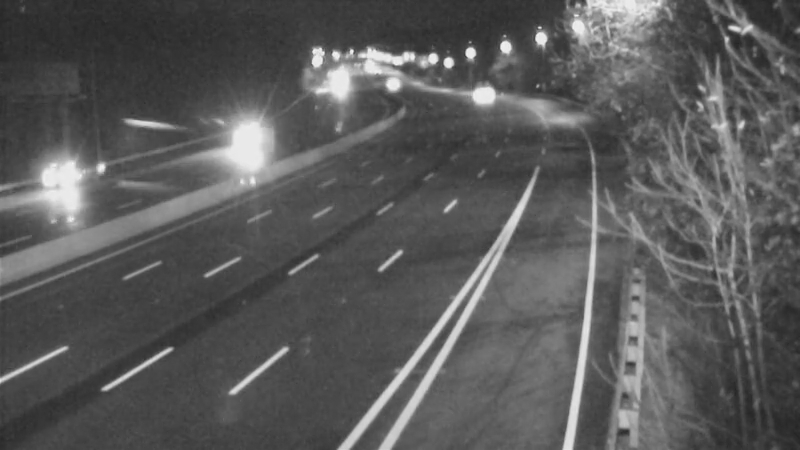vehicle: (23, 137, 103, 217), (362, 54, 412, 104), (455, 68, 505, 118), (222, 118, 272, 168)
